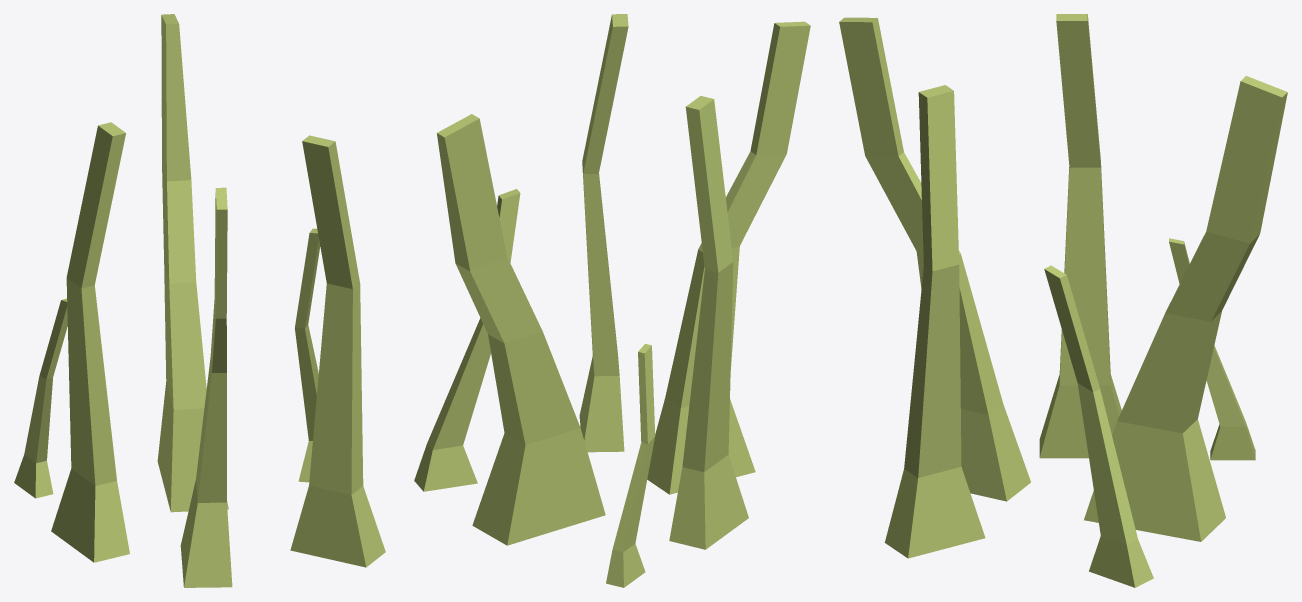
The model's file is quaternius-simple-nature-grass-2.glb.
3 views of the same model, side by side, from view 1: azimuth 30°, elevation 25°; view 2: azimuth 150°, elevation 25°; view 3: azimuth 270°, elevation 25° (orthographic). The views are drawn at different scales.
Parts seen in each view (by area): view 1: Grass2; view 2: Grass2; view 3: Grass2.
Part boxes in pixels (x1=…): Grass2: x1=14, y1=14, x2=385, y2=587; Grass2: x1=414, y1=14, x2=810, y2=587; Grass2: x1=839, y1=14, x2=1287, y2=587.
Size of the model in its own units: 0.1646 by 0.2336 by 0.2104.
